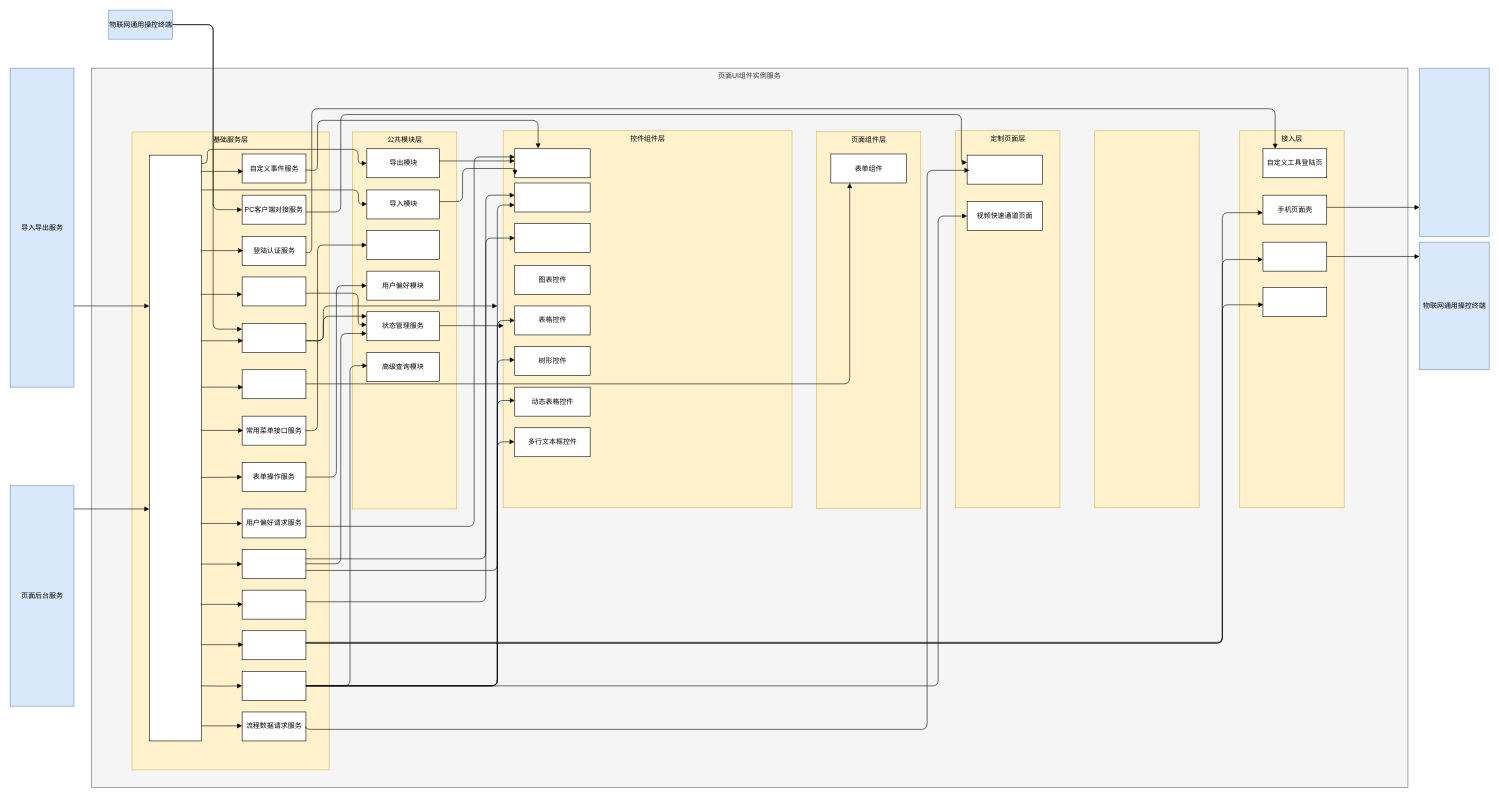
Image size: 1499x798. Some labels were removed from this diagram. Here are the shapes that lost their labels. From the top down, the centre of each, then its label:
At point 552,163: "按钮控件".
At point 1005,169: "PC流程定制页面".
At point 1454,152: "移动APP应用".
At point 552,197: "文本框控件".
At point 402,245: "首页模块".
At point 552,238: "密码框控件".
At point 1294,256: "PC页面壳".
At point 274,291: "联动数据请求服务".
At point 1294,301: "自定义工具首页".
At point 274,337: "指令服务".
At point 1146,319: "外部服务嵌入层".
At point 274,384: "业务数据请求服务".
At point 175,448: "API网关".
At point 274,564: "校验服务".
At point 274,604: "编码规则请求服务".
At point 274,645: "系统变量请求服务".
At point 274,685: "多行数据请求服务".
